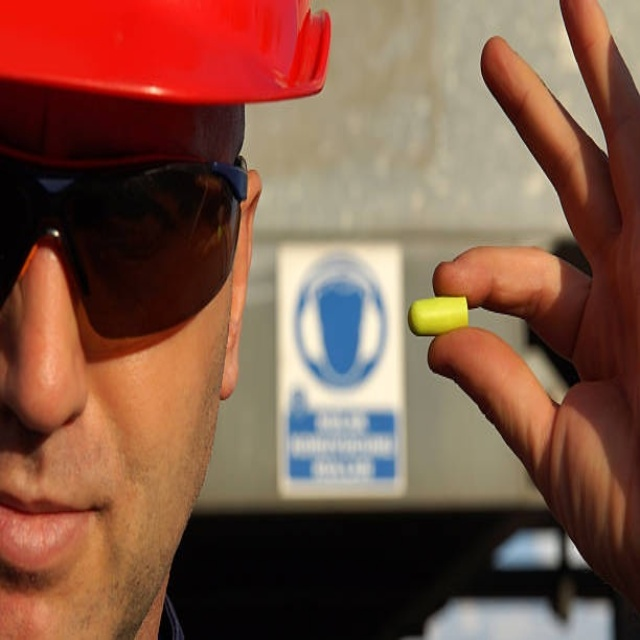Gafas: (0, 146, 249, 339)
Sin_guantes: (425, 5, 639, 636)
Sin_mascara: (1, 462, 119, 629)
